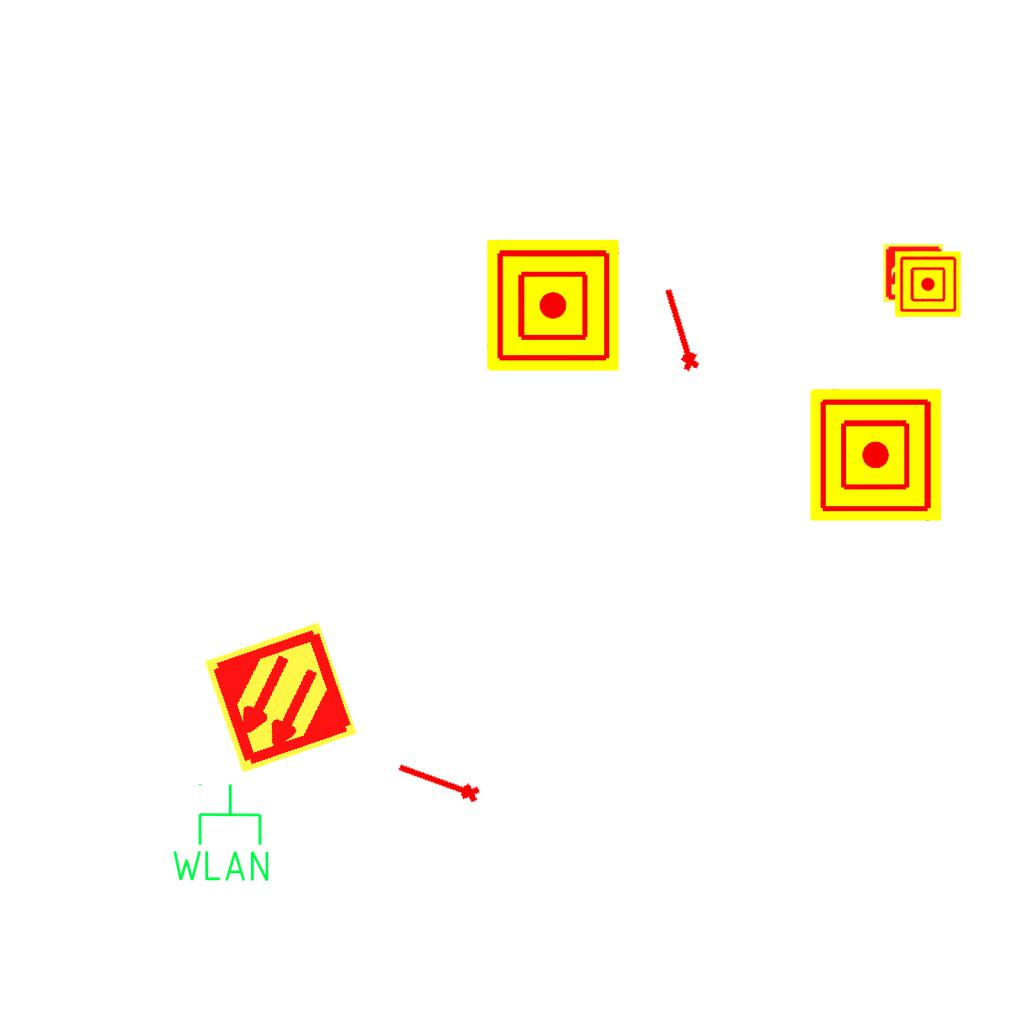ASR_Ansaugoeffnung: (392, 756, 484, 809), (655, 284, 703, 375)
ASR_Ansaugrauchmelder: (201, 618, 360, 777), (882, 242, 944, 304)
NAM-Nichtautomatischer_Melder: (487, 239, 619, 371), (810, 389, 942, 521), (895, 251, 961, 317)
WLAN: (168, 781, 273, 885)
